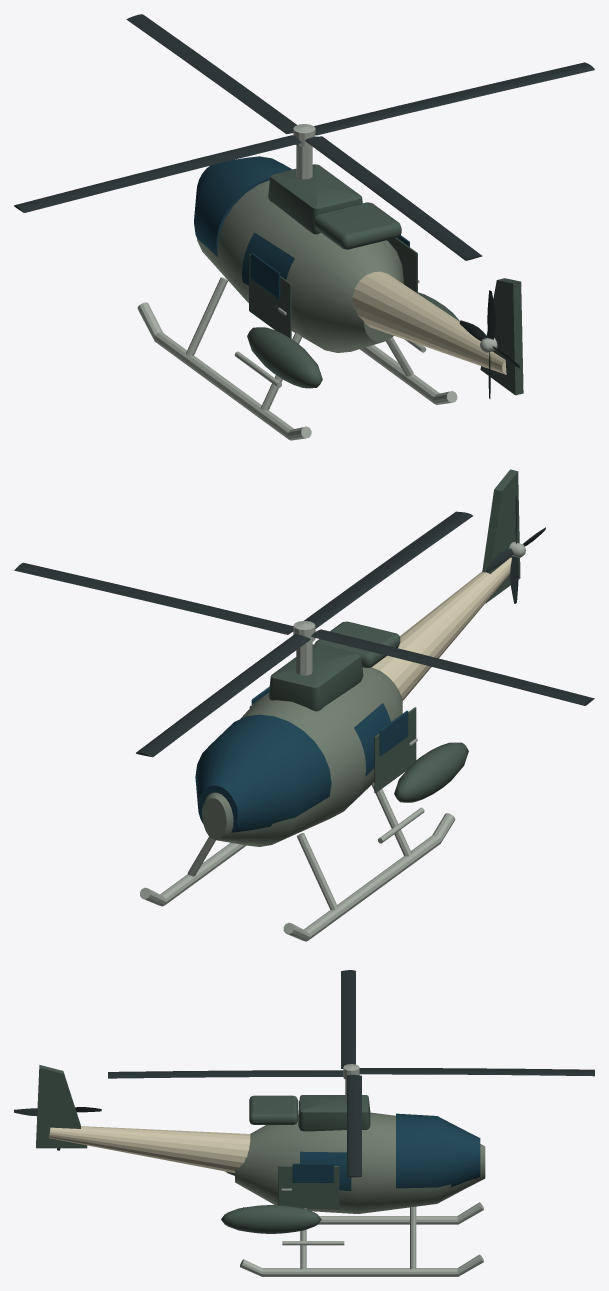
Rendered from cas_transport_helicopter.glb.
The picture shows the model from 3 angles, top to bottom: view 1: azimuth 30°, elevation 25°; view 2: azimuth 150°, elevation 25°; view 3: azimuth 270°, elevation 25°; orthographic projection. The views are drawn at different scales.
Visible parts, largest first — view 1: Hull, MainRotorVisual, TailRotorVisual; view 2: Hull, MainRotorVisual, TailRotorVisual; view 3: Hull, MainRotorVisual.
Part boxes in pixels (x1,y1,x2,y2): Hull: (137, 145, 523, 440); MainRotorVisual: (14, 14, 594, 260); TailRotorVisual: (459, 290, 520, 398); Hull: (140, 469, 520, 941); MainRotorVisual: (14, 511, 594, 757); TailRotorVisual: (486, 495, 545, 603); Hull: (36, 1065, 485, 1276); MainRotorVisual: (108, 970, 594, 1177).
Size of the model in its own units: 11.01 by 4.59 by 13.13.
